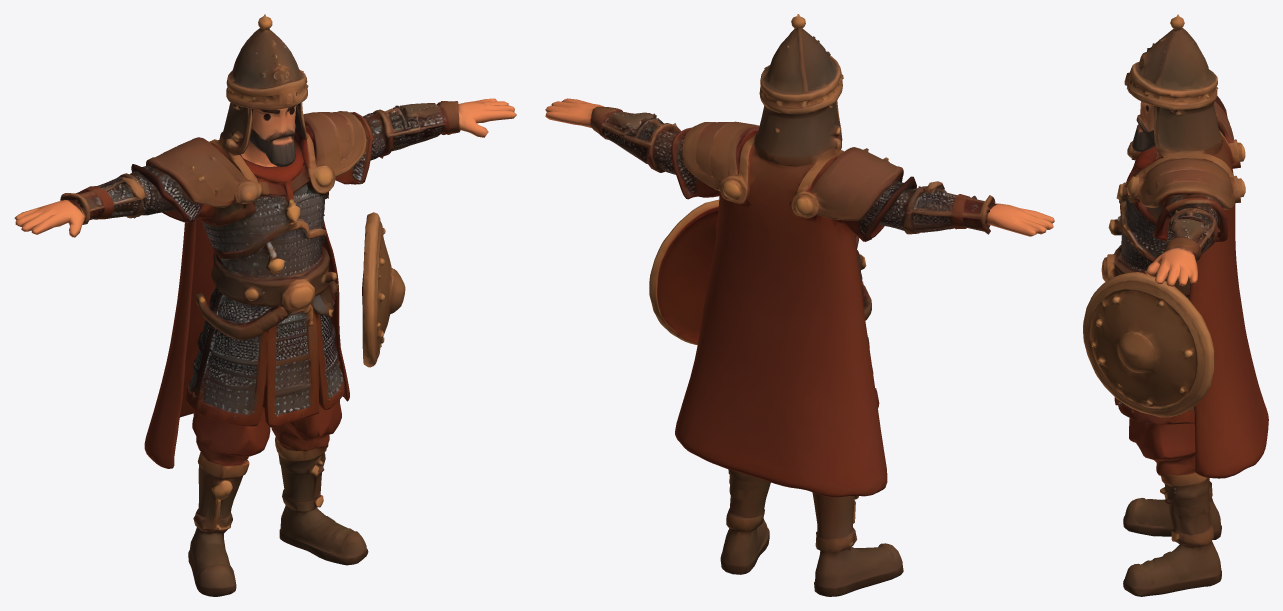
Rendered from bandit_sword.glb.
3 renders of one model, left to right at view 1: azimuth 30°, elevation 25°; view 2: azimuth 150°, elevation 25°; view 3: azimuth 270°, elevation 25°, orthographic. The views are drawn at different scales.
Visible parts, largest first — view 1: tripo_node_81b41832-8cab-4a6f-8d95-4e21eb4d0c82; view 2: tripo_node_81b41832-8cab-4a6f-8d95-4e21eb4d0c82; view 3: tripo_node_81b41832-8cab-4a6f-8d95-4e21eb4d0c82.
Part boxes in pixels (x1=…): tripo_node_81b41832-8cab-4a6f-8d95-4e21eb4d0c82: x1=14, y1=14, x2=516, y2=596; tripo_node_81b41832-8cab-4a6f-8d95-4e21eb4d0c82: x1=545, y1=14, x2=1054, y2=596; tripo_node_81b41832-8cab-4a6f-8d95-4e21eb4d0c82: x1=1083, y1=14, x2=1268, y2=596.
Bounding box in the file's own units: 0.9432 × 1 × 0.3094.
Materials: 1 (1 with a texture image).
